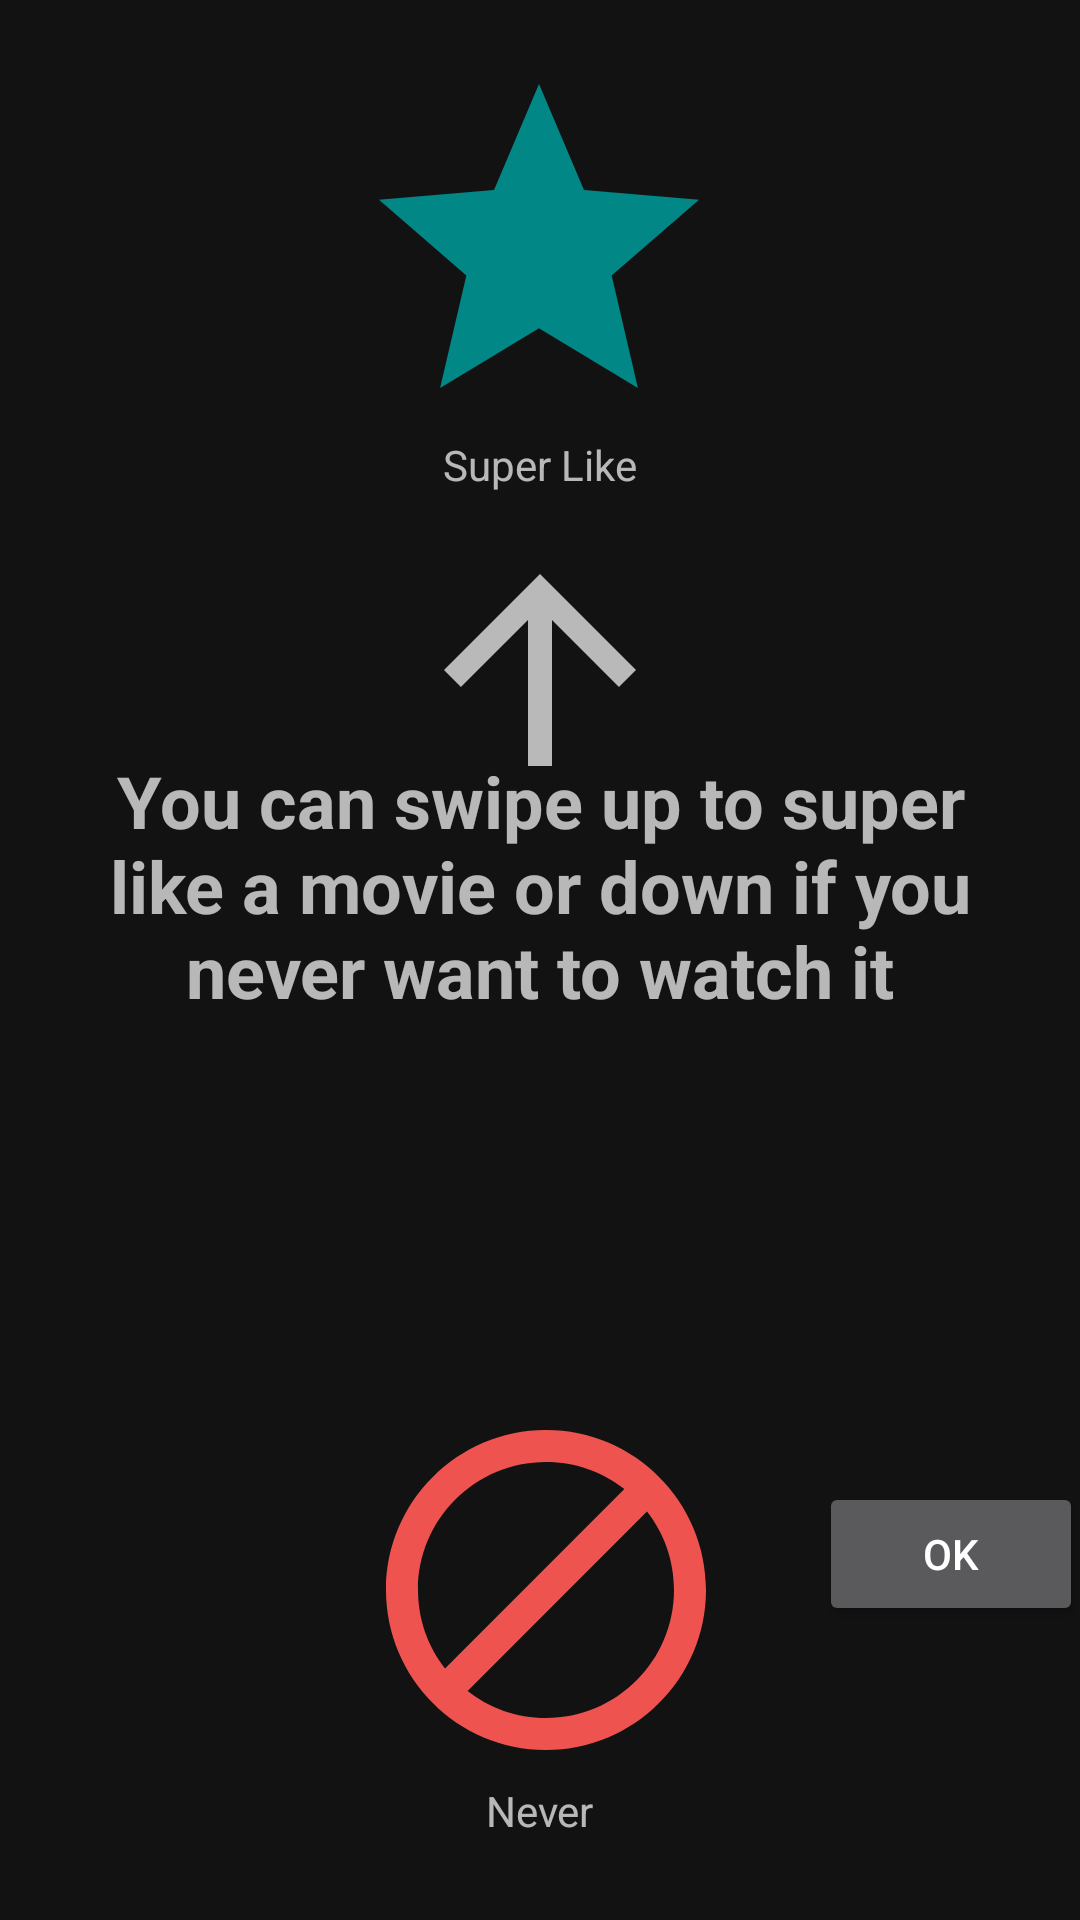

Named icons in this screenshot (1080*1920) and their bounding boxes, [x1=x1, y1=y1, x2=x2, y2=y2]:
arrow upward: [x1=444, y1=574, x2=636, y2=787]
block: [x1=386, y1=1430, x2=706, y2=1750]
star: [x1=379, y1=84, x2=699, y2=388]
